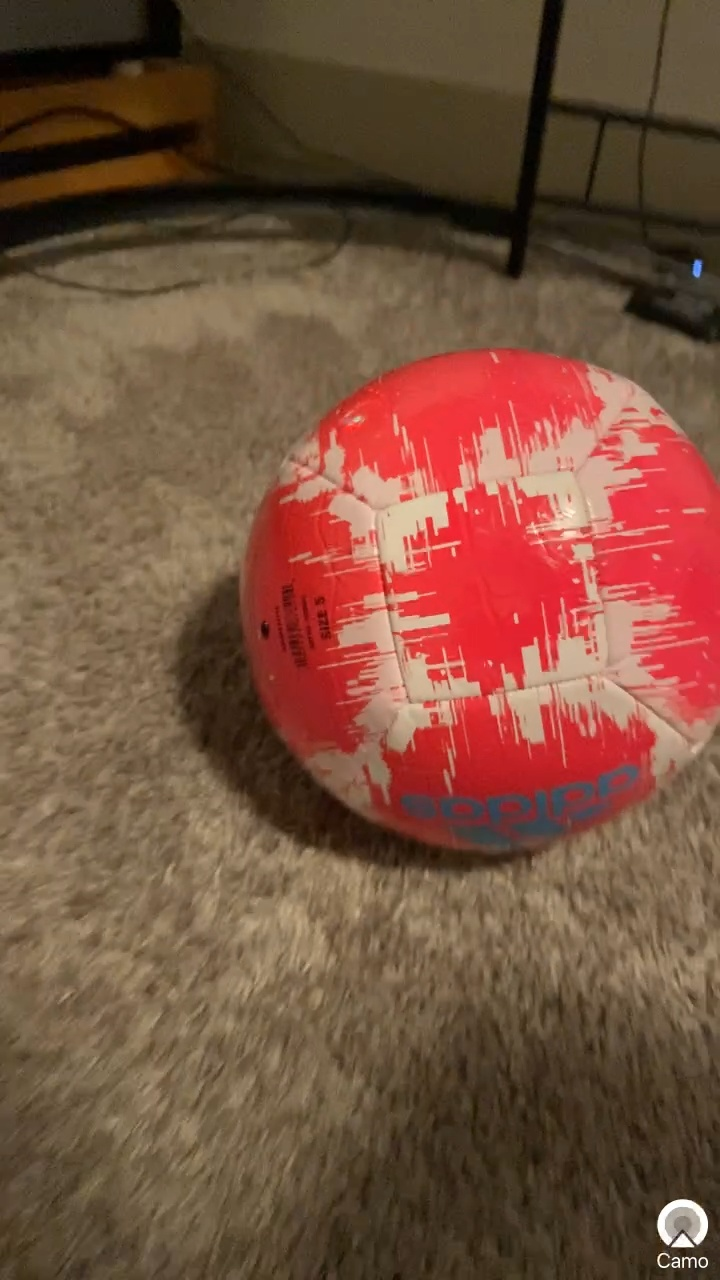Soccer_Ball: (229, 327, 720, 908)
